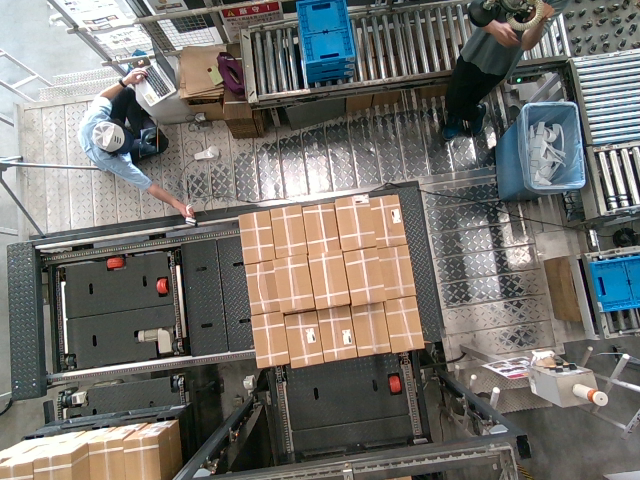box: (382, 295, 423, 353), (336, 193, 376, 251), (308, 250, 349, 304), (343, 249, 386, 300), (272, 254, 313, 306), (352, 301, 390, 355), (320, 306, 357, 361), (285, 310, 321, 365), (370, 192, 409, 242), (265, 205, 302, 257), (253, 313, 286, 370), (236, 212, 272, 263), (245, 261, 278, 313), (302, 203, 336, 253)
